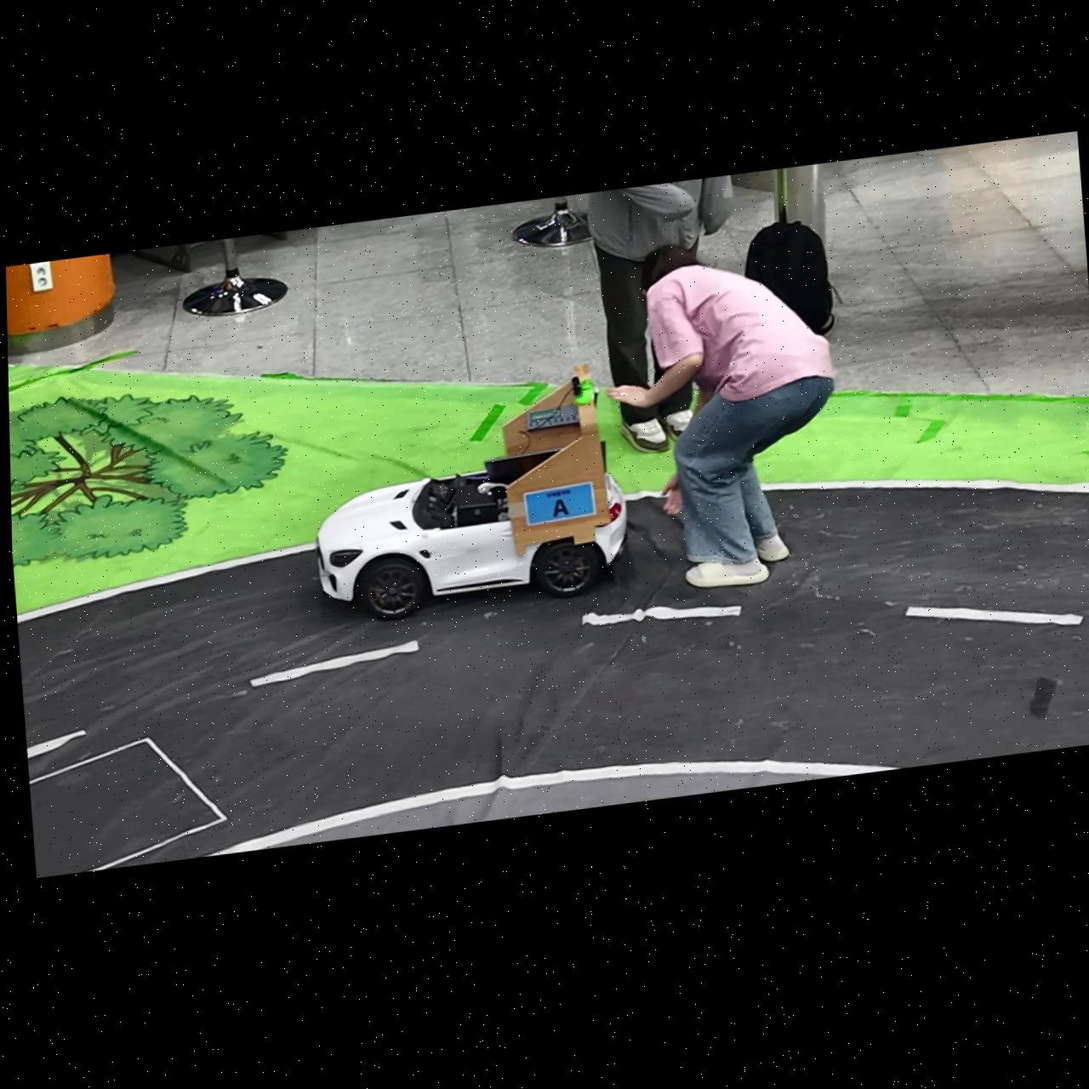broken_line: (250, 640, 418, 687), (905, 606, 1082, 625), (581, 605, 741, 625), (26, 729, 85, 758)
